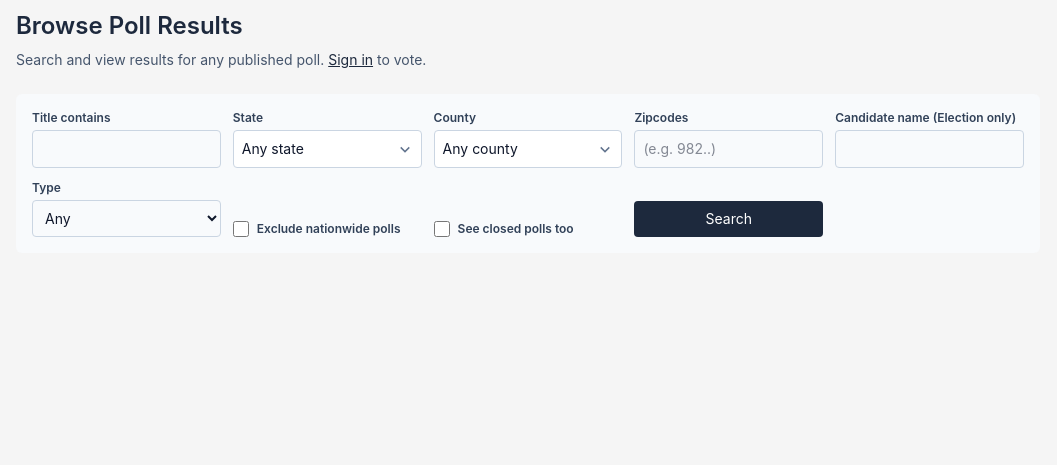
Test: PollSearchView: Responses column and the column chooser › shows how many responded, and sorts by it as a number
Submit the form, box left=16, top=94, right=1040, bottom=253
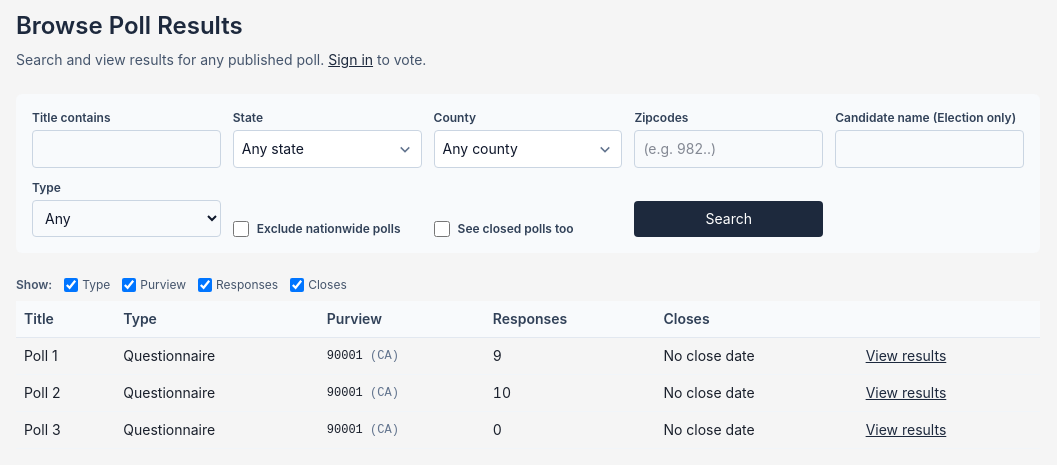
Check: the elements with test id "responses" read "9", "10", "0", in this order, box left=485, top=338, right=656, bottom=374; left=485, top=374, right=656, bottom=412; left=485, top=412, right=656, bottom=448
Click the column heading "Responses" at (570, 319), box left=485, top=301, right=656, bottom=338
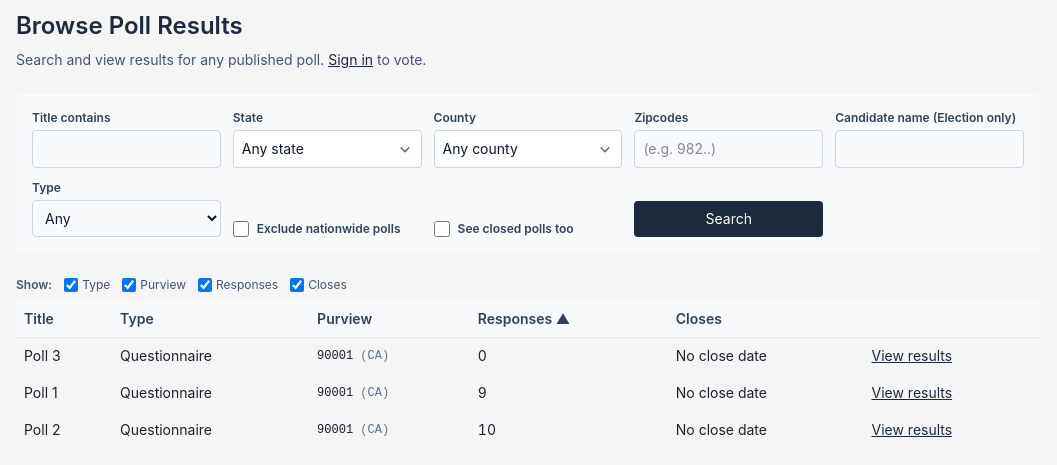
Check: the elements with test id "responses" read "0", "9", "10", in this order, box left=470, top=338, right=668, bottom=374; left=470, top=374, right=668, bottom=412; left=470, top=412, right=668, bottom=448
